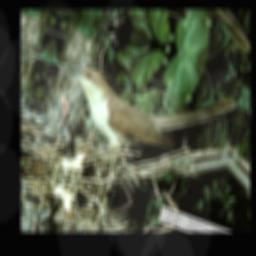Cuckoo: (51, 41, 237, 190)
